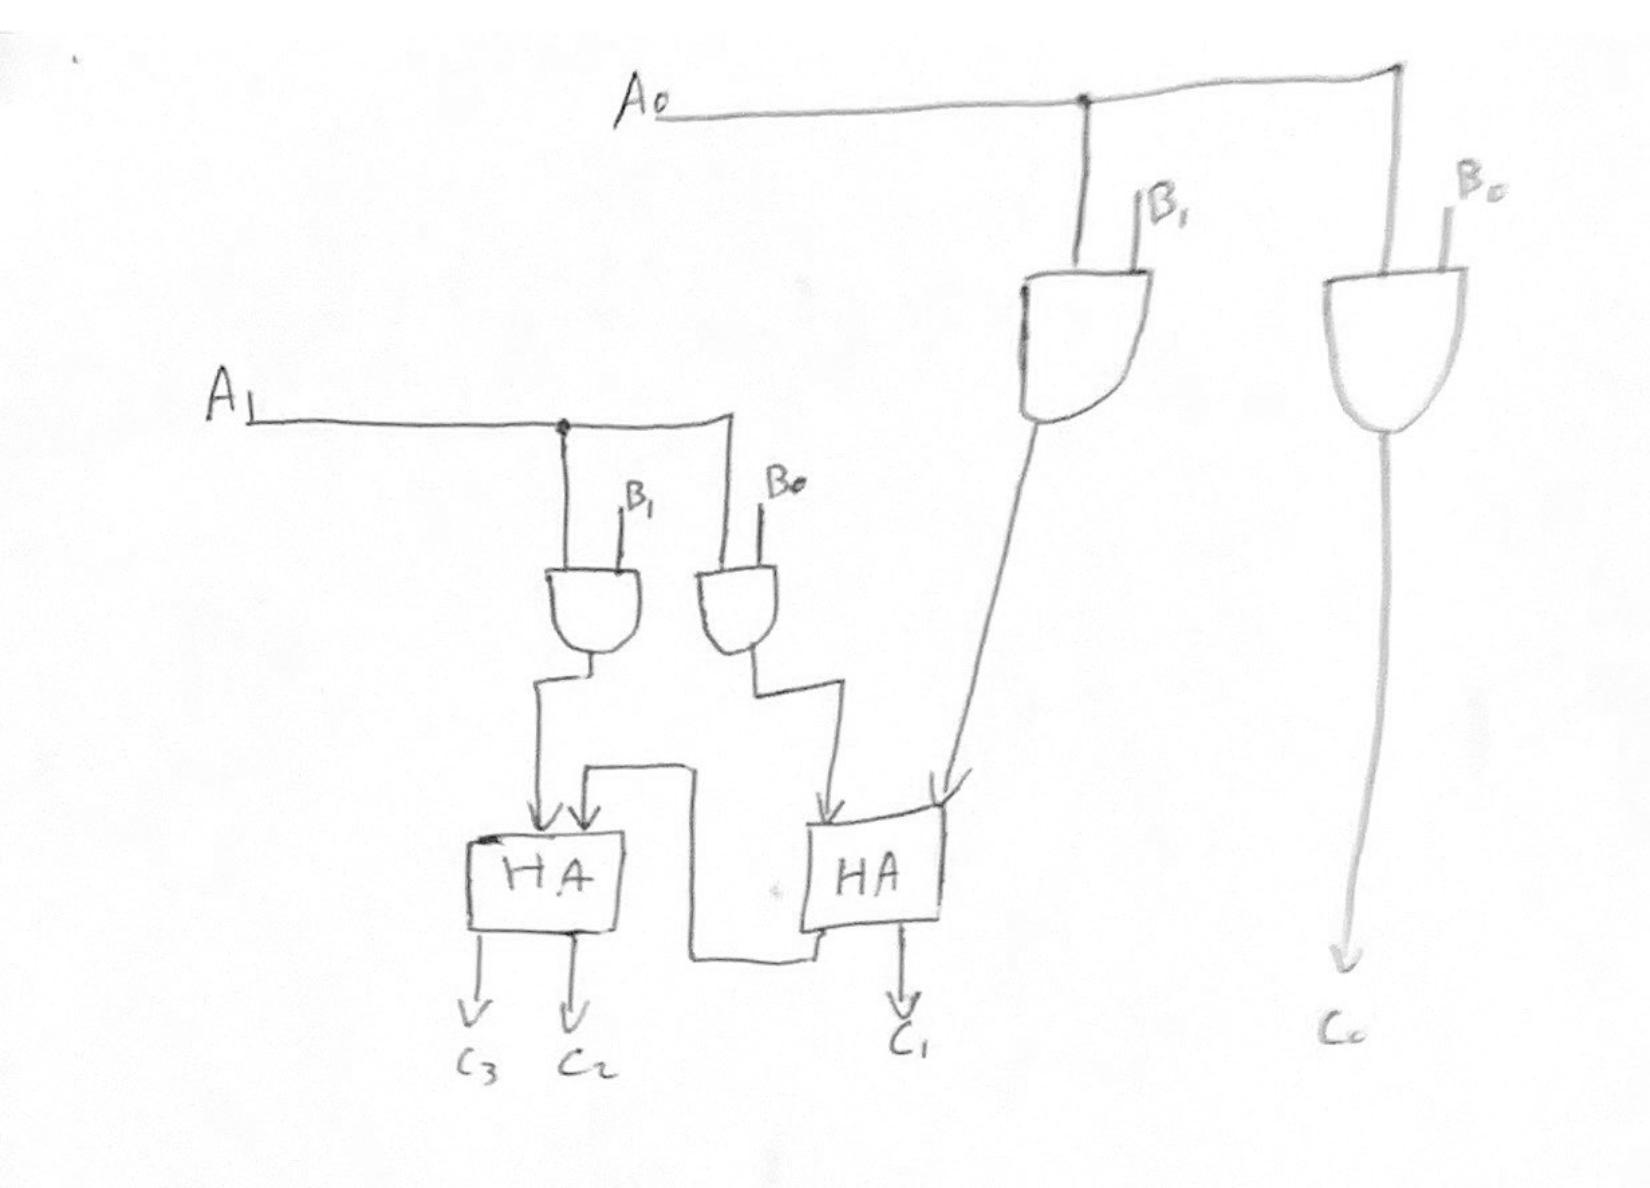AND: (1303, 250, 1510, 458), (1003, 258, 1173, 440), (530, 555, 653, 672), (683, 551, 801, 668)
